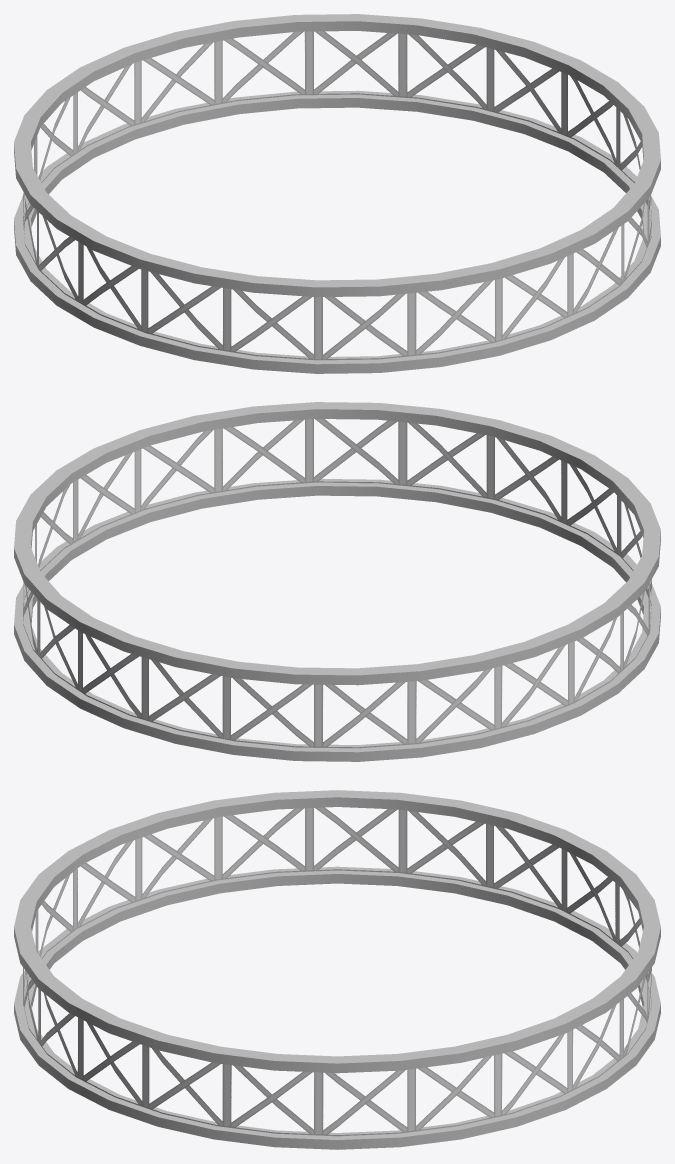
The model's file is S2 Ring Beam.fbx.
3 views of the same model, one above another, from view 1: azimuth 30°, elevation 25°; view 2: azimuth 150°, elevation 25°; view 3: azimuth 270°, elevation 25° (orthographic).
Visible parts, largest first — view 1: Ring Beam; view 2: Ring Beam; view 3: Ring Beam.
Boxes of the visible parts, x1,y1,x2,y2 form: Ring Beam: (14,14,660,373); Ring Beam: (14,402,660,761); Ring Beam: (14,790,660,1149).
Size of what is drawn, in the model's own units: 3139 by 462 by 3139.
